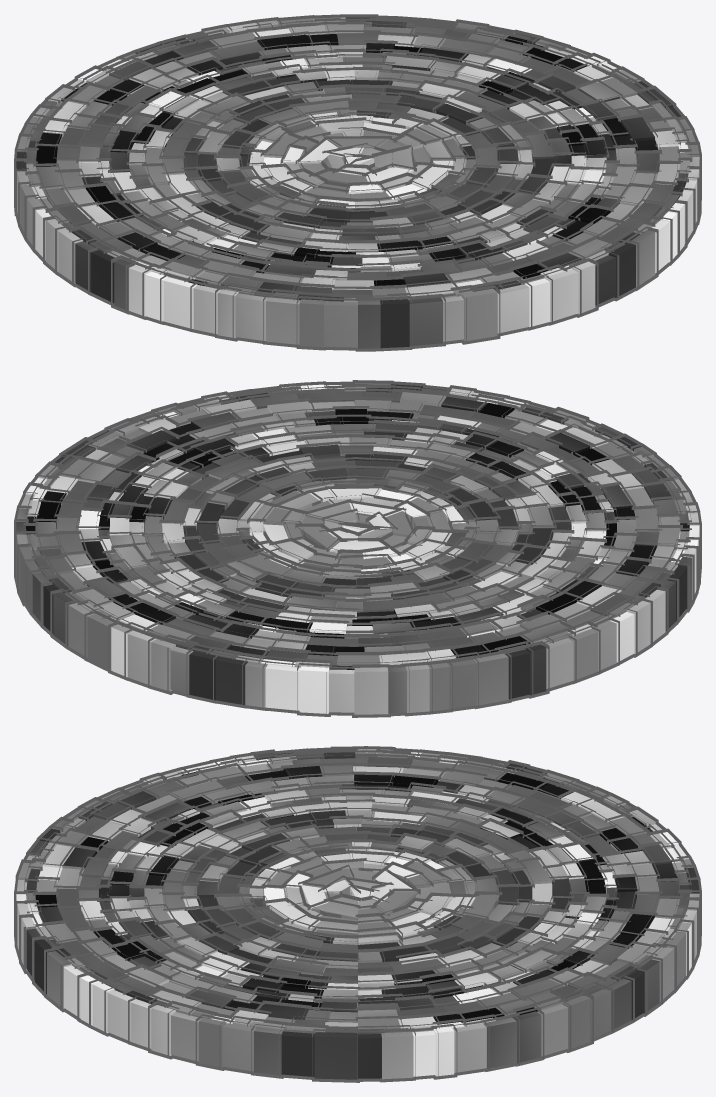
Rendered from Floor_Circle.glb.
3 renders of one model, top to bottom at view 1: azimuth 30°, elevation 25°; view 2: azimuth 150°, elevation 25°; view 3: azimuth 270°, elevation 25°, orthographic.
Visible parts, largest first — view 1: Wall; view 2: Wall; view 3: Wall.
Part boxes in pixels (x1,y1,x2,y2): Wall: [14, 14, 701, 351]; Wall: [14, 380, 701, 717]; Wall: [14, 746, 701, 1082].
Bounding box in the file's own units: 30.21 × 2.34 × 30.21.
Materials: 2 (1 with a texture image).
